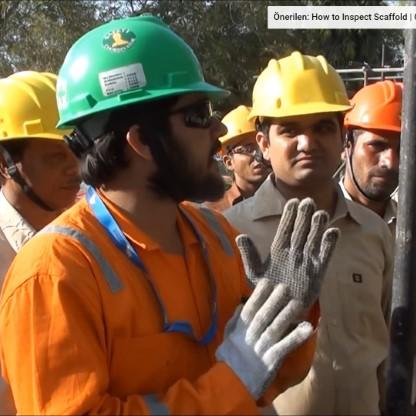helmet: (47, 4, 239, 229), (247, 50, 359, 194), (1, 65, 83, 232), (351, 80, 415, 225)
